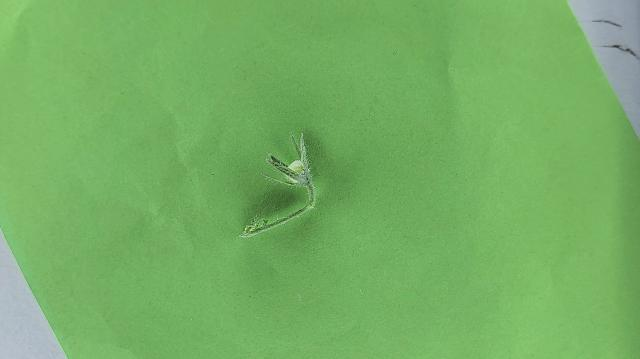Fruit Bud: (261, 131, 313, 192)
